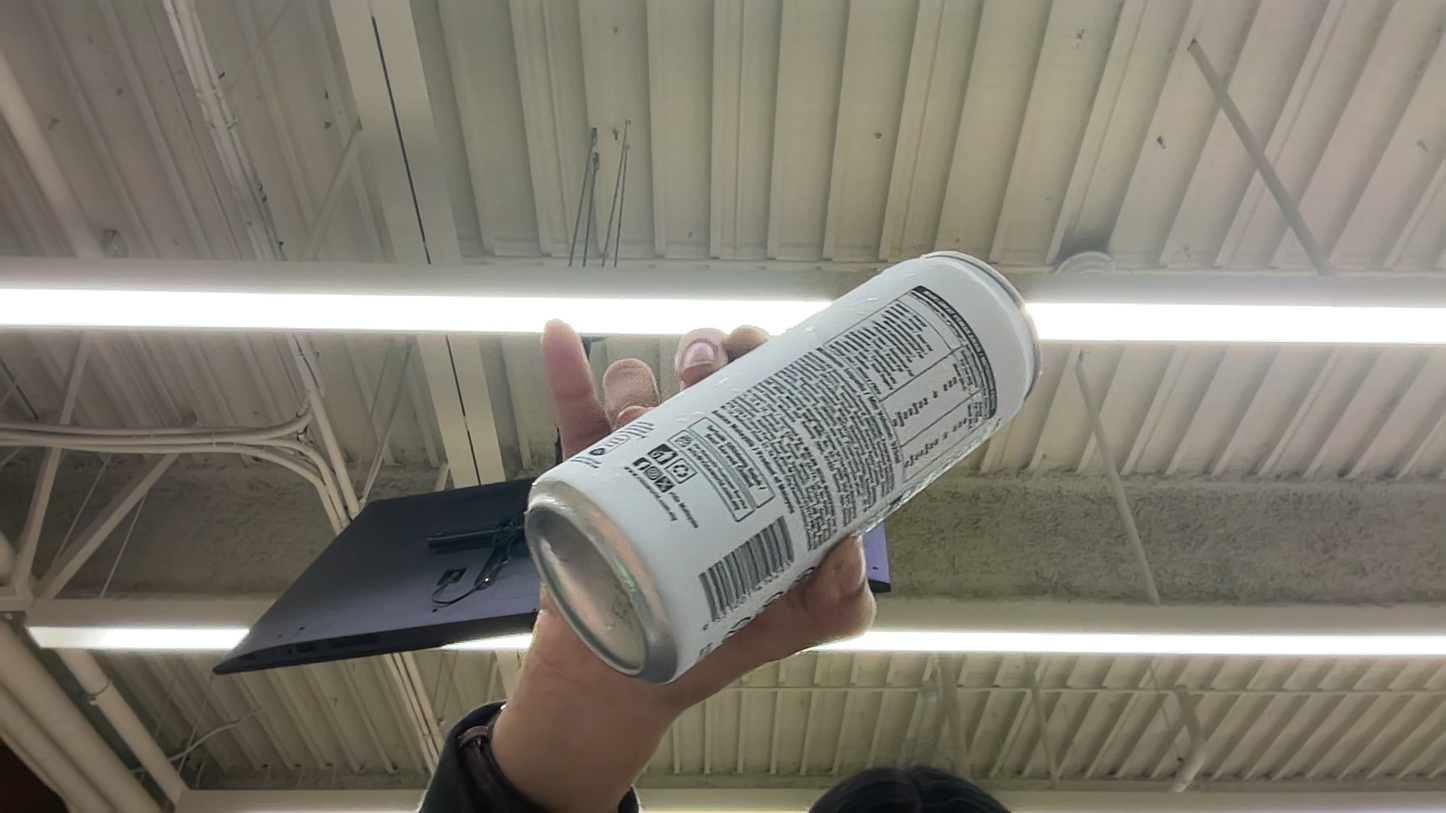Metal: (508, 201, 1072, 695)
